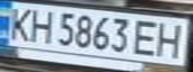3: (109, 16, 133, 54)
5: (51, 10, 78, 47)
6: (90, 14, 115, 52)
8: (72, 12, 93, 50)
E: (130, 17, 163, 57)
H: (151, 19, 190, 60), (24, 7, 57, 44)
K: (3, 3, 36, 42)
